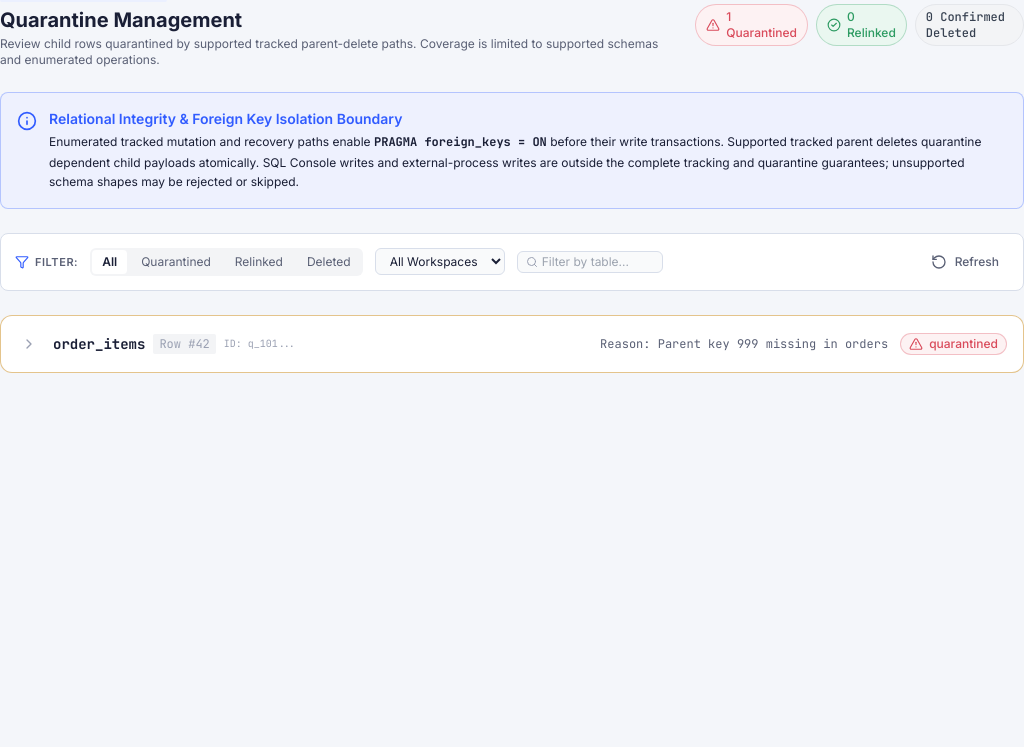
Scenario: Phase 7 Integration Tests › Quarantine View Tests › expands row, performs parent relinking, and reports validation error on failure
# Expand accordion
Click the text "order_items".
click(99, 344)  # box [53,334,145,354]
(page scrolled)
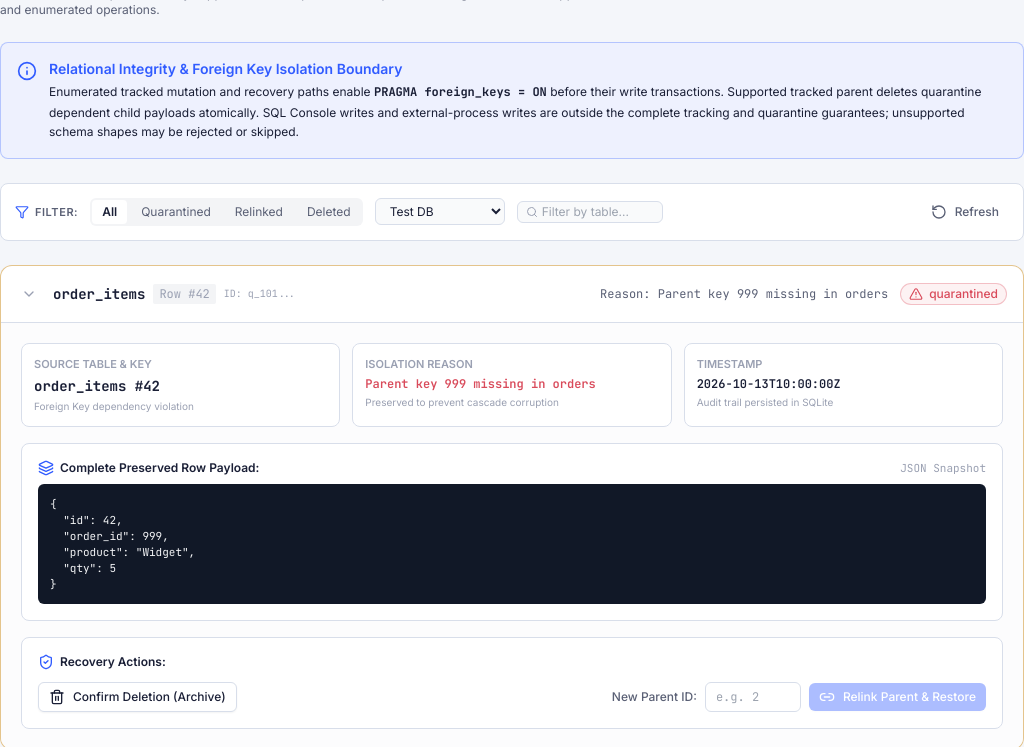
Result: the field with placeholder "e.g. 2" is shown
Type "888" into the field with placeholder "e.g. 2".
click(753, 697); type("888")  # box [705,682,801,712]
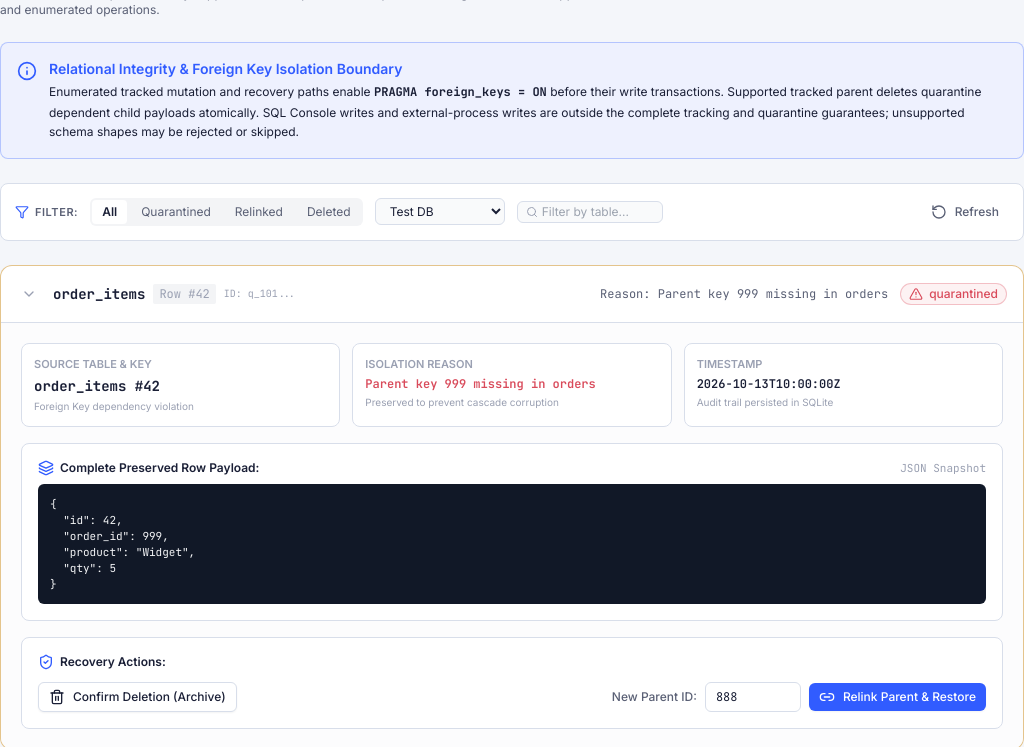
Click the button "Relink Parent & Restore".
click(897, 697)  # box [809,683,986,711]
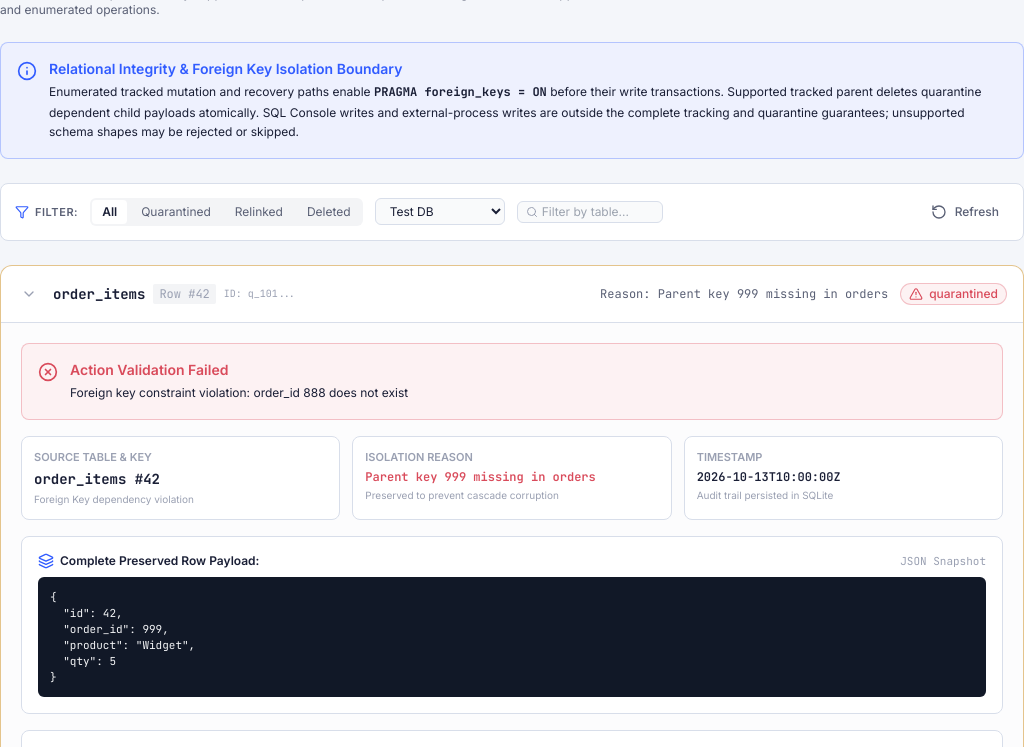
Result: the text "Foreign key constraint violation: order_id 888 does not exist" is shown at [70,385,408,400]
